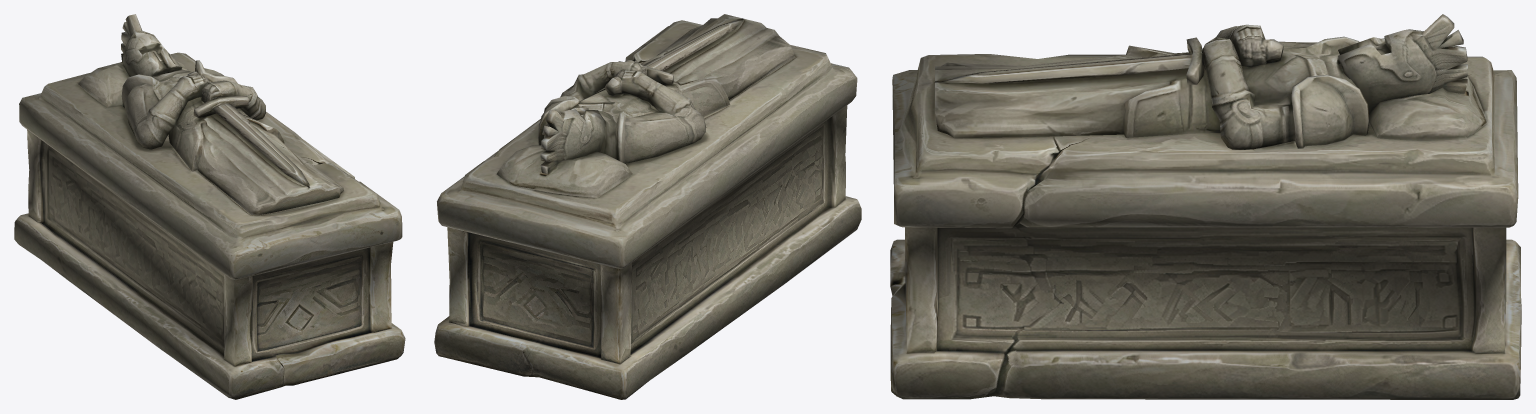
Rendered from sarcofago.glb.
3 renders of one model, left to right at view 1: azimuth 30°, elevation 25°; view 2: azimuth 150°, elevation 25°; view 3: azimuth 270°, elevation 25°, orthographic. The views are drawn at different scales.
Visible parts, largest first — view 1: sarcofago; view 2: sarcofago; view 3: sarcofago.
Part boxes in pixels (<box>): sarcofago: <box>14,14,405,399</box>; sarcofago: <box>434,14,861,399</box>; sarcofago: <box>890,14,1521,399</box>.
Size of the model in its own units: 0.4697 by 0.5708 by 0.9995.
Materials: 1 (1 with a texture image).
